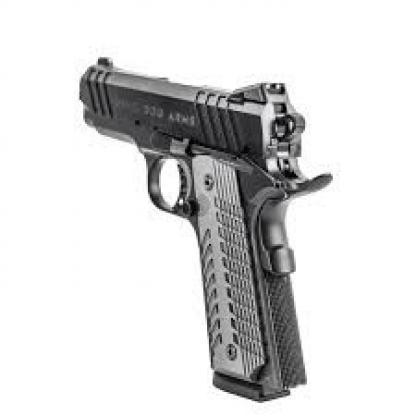Pistol: (74, 54, 333, 400)
